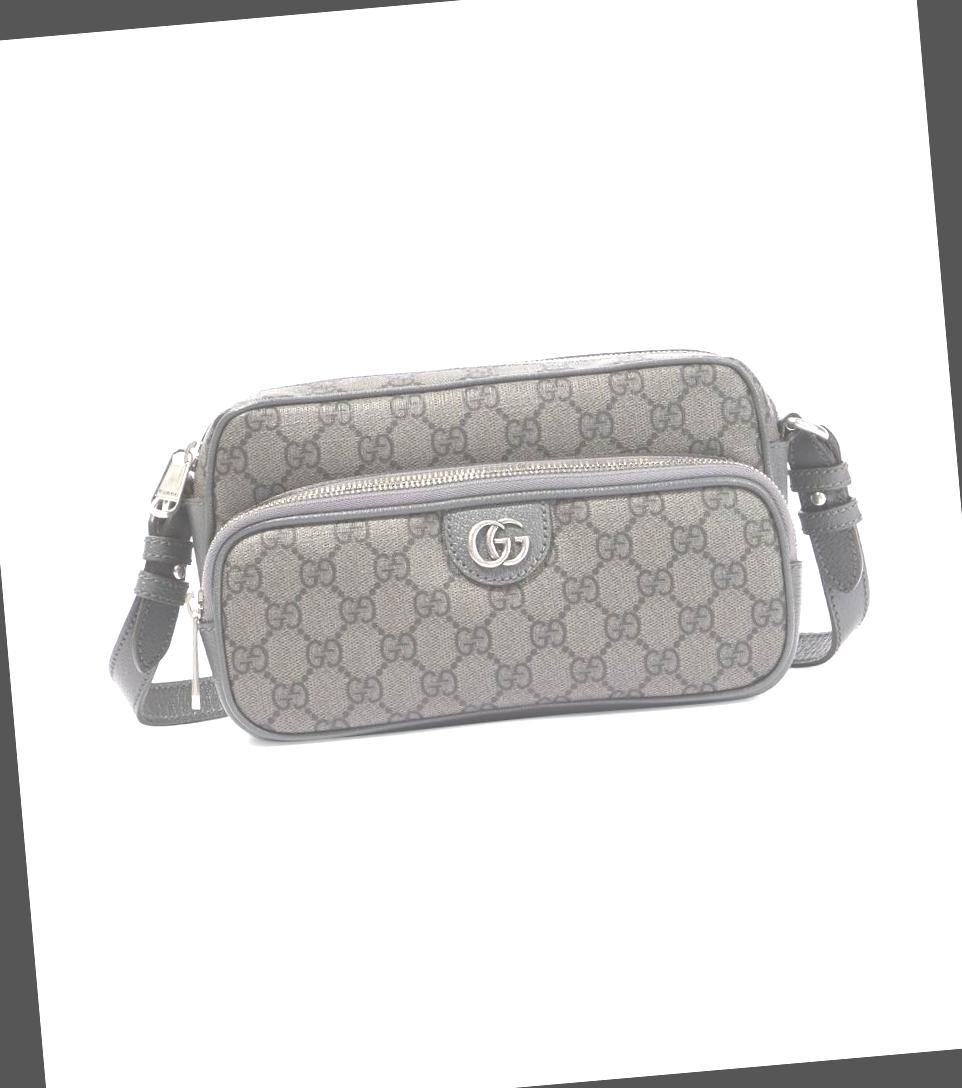GUCCI: (464, 515, 531, 569)
